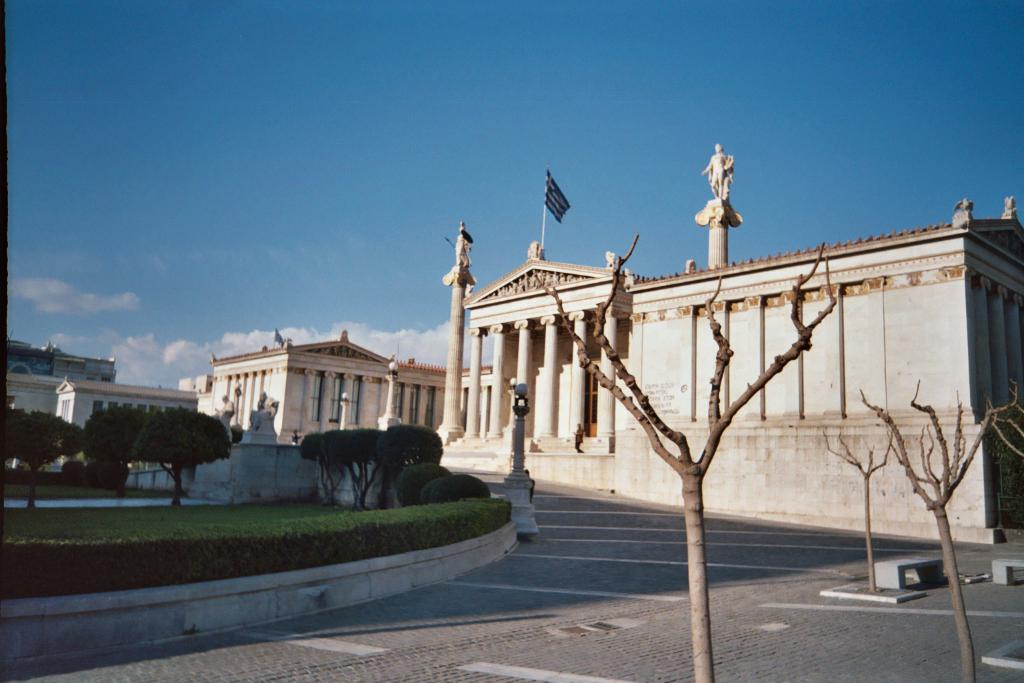Tree: (298, 418, 493, 510), (7, 402, 129, 507), (132, 408, 229, 506)
